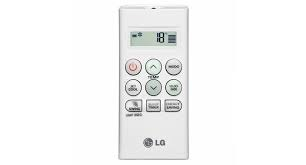remote control: (119, 8, 189, 157)
